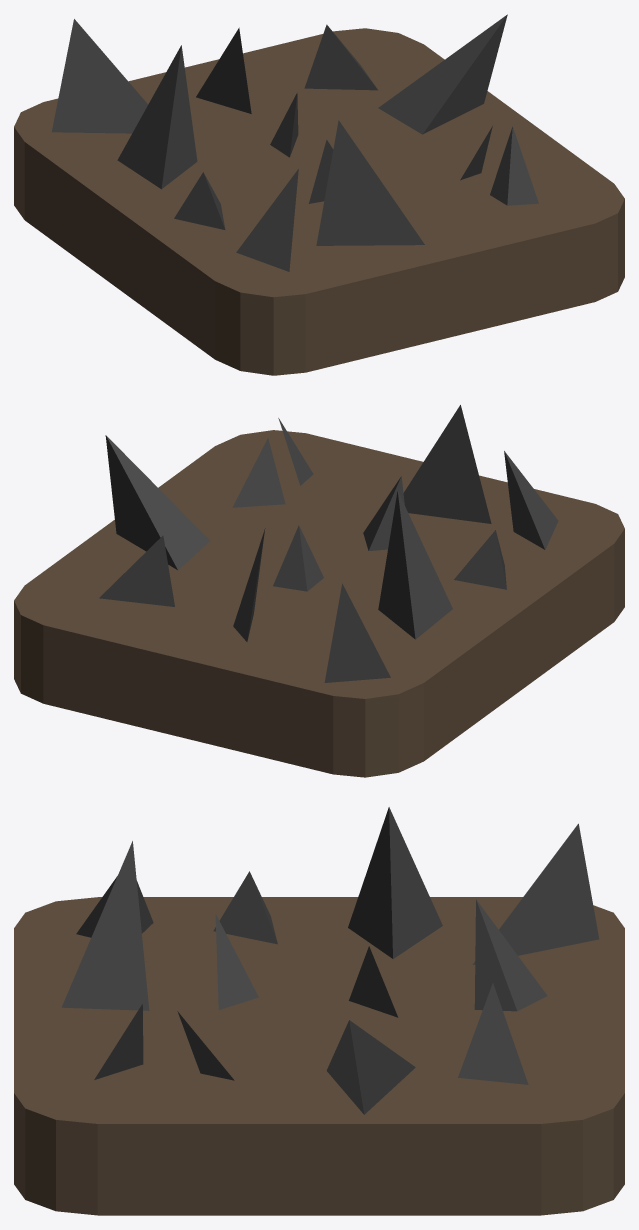
3 renders of one model, top to bottom at view 1: azimuth 30°, elevation 25°; view 2: azimuth 150°, elevation 25°; view 3: azimuth 270°, elevation 25°, orthographic. The views are drawn at different scales.
Parts seen in each view (by area): view 1: Cube, Cone.001; view 2: Cube, Cone.001; view 3: Cube, Cone.001.
Part boxes in pixels (x1=…): Cube: x1=14, y1=28, x2=624, y2=375; Cone.001: x1=52, y1=14, x2=538, y2=271; Cube: x1=14, y1=430, x2=624, y2=777; Cone.001: x1=99, y1=405, x2=558, y2=682; Cube: x1=14, y1=897, x2=624, y2=1215; Cone.001: x1=61, y1=807, x2=599, y2=1114.
Size of the model in its own units: 178 by 90.29 by 202.
